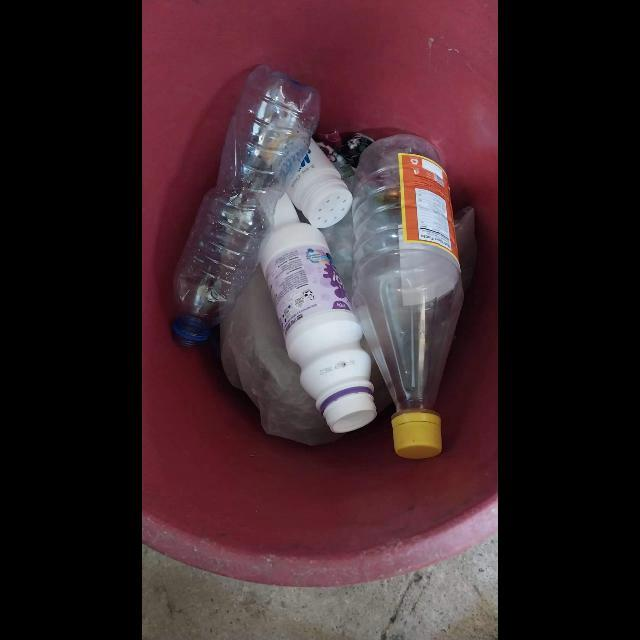plastic_bag: (218, 265, 338, 447)
plastic_bottle: (167, 64, 322, 352), (347, 137, 463, 461), (254, 224, 379, 432)
